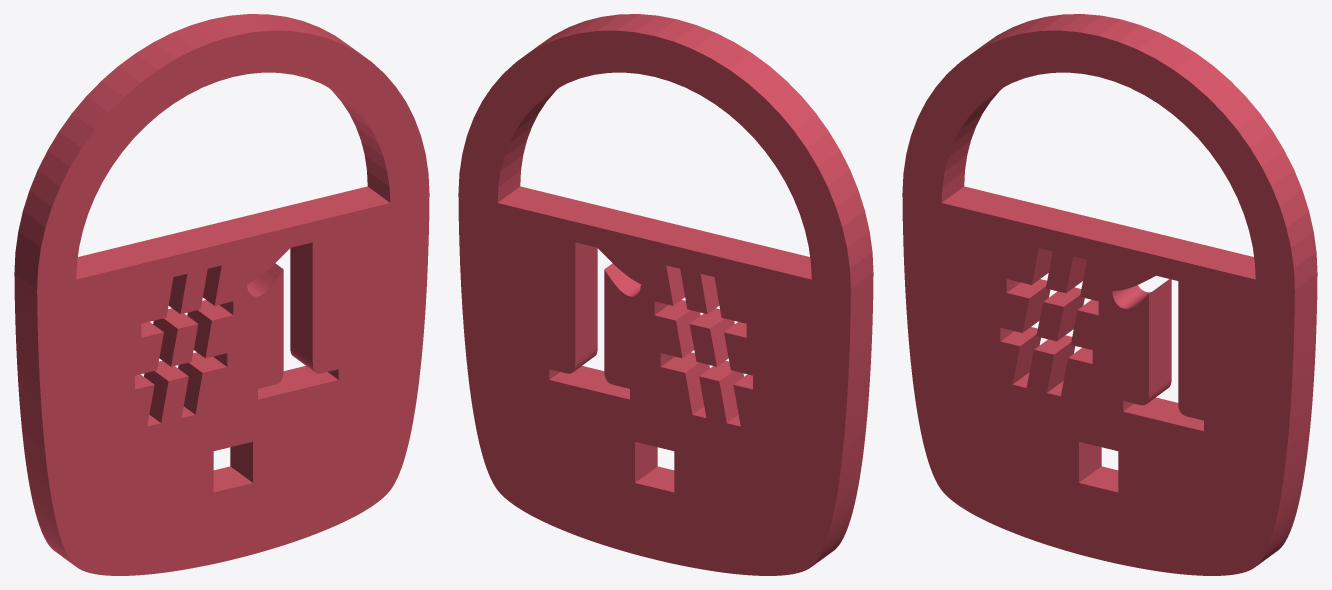
The model's file is Lock_Red.glb.
3 views of the same model, side by side, from view 1: azimuth 30°, elevation 25°; view 2: azimuth 150°, elevation 25°; view 3: azimuth 330°, elevation 25° (orthographic).
Visible parts, largest first — view 1: Mesh_Mesh_head_geo.001_lambert2SG.001; view 2: Mesh_Mesh_head_geo.001_lambert2SG.001; view 3: Mesh_Mesh_head_geo.001_lambert2SG.001.
Part boxes in pixels (<box>): Mesh_Mesh_head_geo.001_lambert2SG.001: <box>14,14,429,575</box>; Mesh_Mesh_head_geo.001_lambert2SG.001: <box>458,14,873,575</box>; Mesh_Mesh_head_geo.001_lambert2SG.001: <box>902,14,1317,575</box>.
Bounding box in the file's own units: 1 × 1.27 × 0.1.
